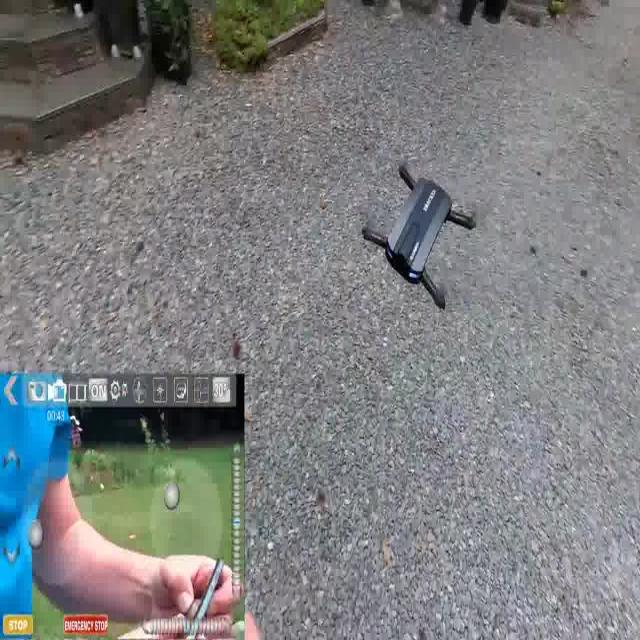drone: (357, 154, 481, 310)
